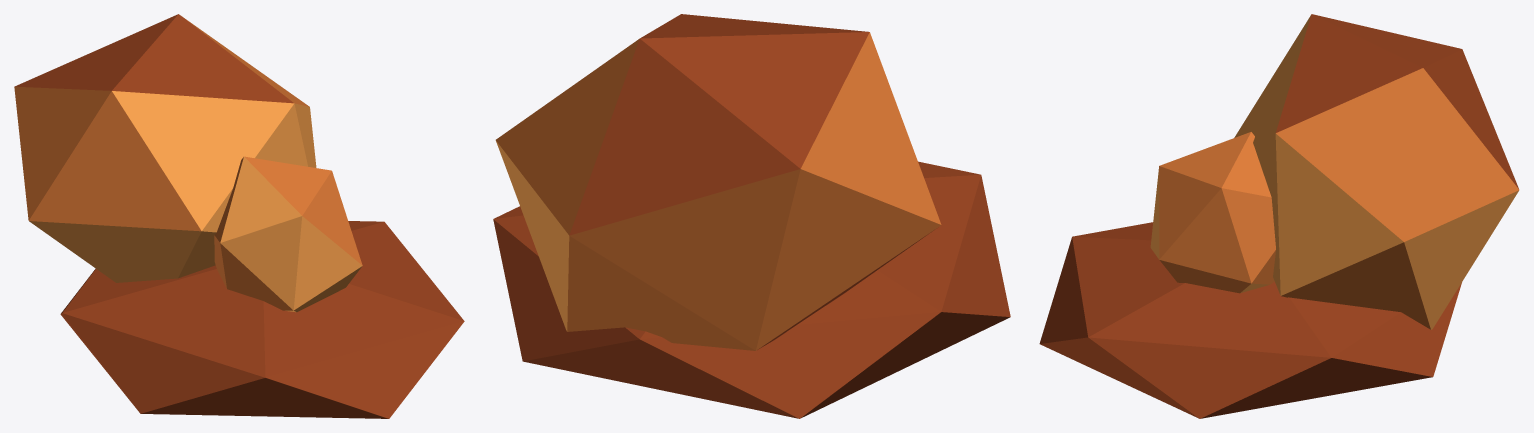
File: CopperOre_01.fbx
3 renders of one model, left to right at view 1: azimuth 30°, elevation 25°; view 2: azimuth 150°, elevation 25°; view 3: azimuth 270°, elevation 25°, orthographic. The views are drawn at different scales.
Parts seen in each view (by area): view 1: Ore_01_Lobe_0, Ore_01_GroundMass, Ore_01_Lobe_1; view 2: Ore_01_Lobe_0, Ore_01_GroundMass; view 3: Ore_01_Lobe_0, Ore_01_GroundMass, Ore_01_Lobe_1.
Part boxes in pixels (box(x1,y1,x2,y2)): Ore_01_Lobe_0: box(14, 14, 316, 282); Ore_01_GroundMass: box(60, 221, 464, 418); Ore_01_Lobe_1: box(214, 156, 362, 312); Ore_01_Lobe_0: box(495, 14, 941, 350); Ore_01_GroundMass: box(493, 161, 1010, 418); Ore_01_Lobe_0: box(1234, 14, 1519, 329); Ore_01_GroundMass: box(1039, 222, 1461, 418); Ore_01_Lobe_1: box(1150, 132, 1275, 293).
Bounding box in the file's own units: 1.08 × 0.8601 × 1.24.
